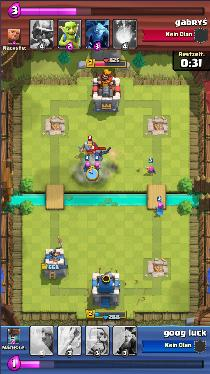ally_archer: (155, 201, 166, 215), (81, 161, 91, 172), (92, 162, 101, 173), (145, 166, 155, 175)
enemy_knight: (77, 140, 98, 155)
enemy_mini_pekka: (91, 147, 111, 159)
